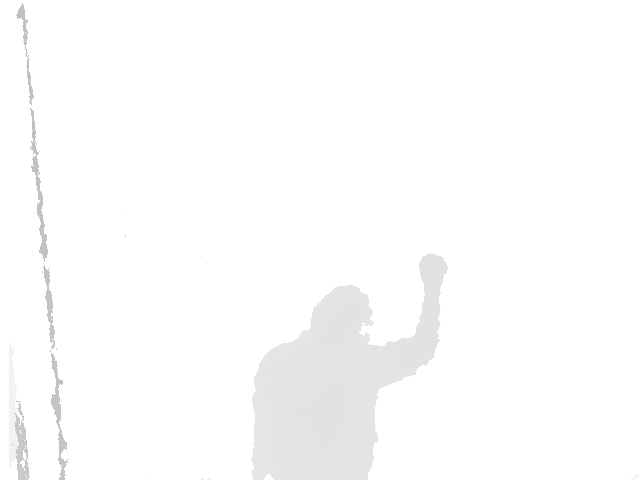hand: (419, 253, 449, 291)
head: (312, 285, 375, 348)
person: (250, 253, 448, 480)
